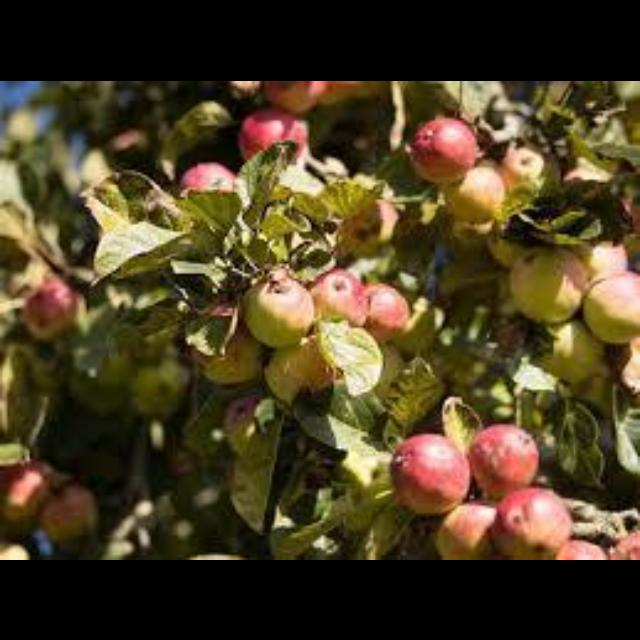apple: (390, 433, 469, 512), (509, 246, 586, 322), (489, 488, 571, 557), (242, 268, 314, 344), (467, 423, 536, 495), (405, 117, 477, 181), (264, 337, 334, 401), (583, 270, 638, 342), (22, 275, 79, 337), (237, 107, 306, 157), (445, 164, 504, 221), (40, 483, 96, 540), (435, 503, 494, 557), (309, 268, 366, 322), (0, 461, 49, 520), (363, 283, 408, 339), (262, 80, 326, 110), (499, 147, 544, 189), (180, 162, 235, 189)
